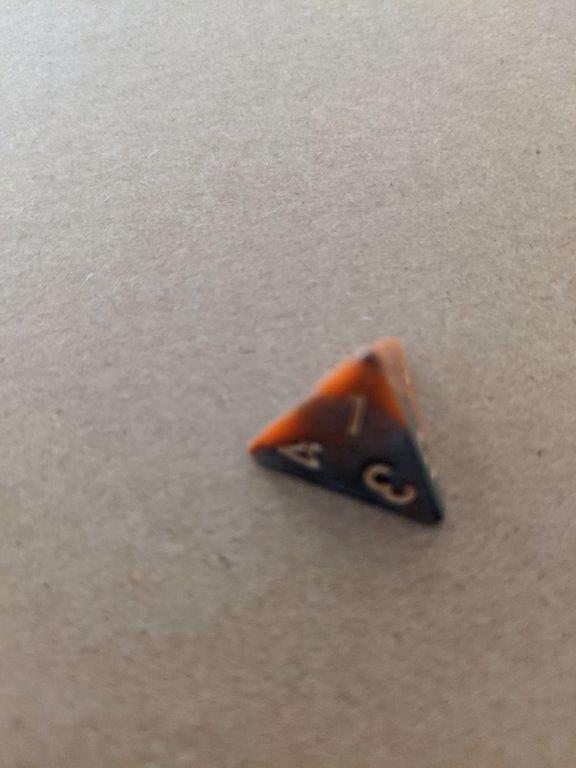d4-1: (240, 328, 453, 532)
